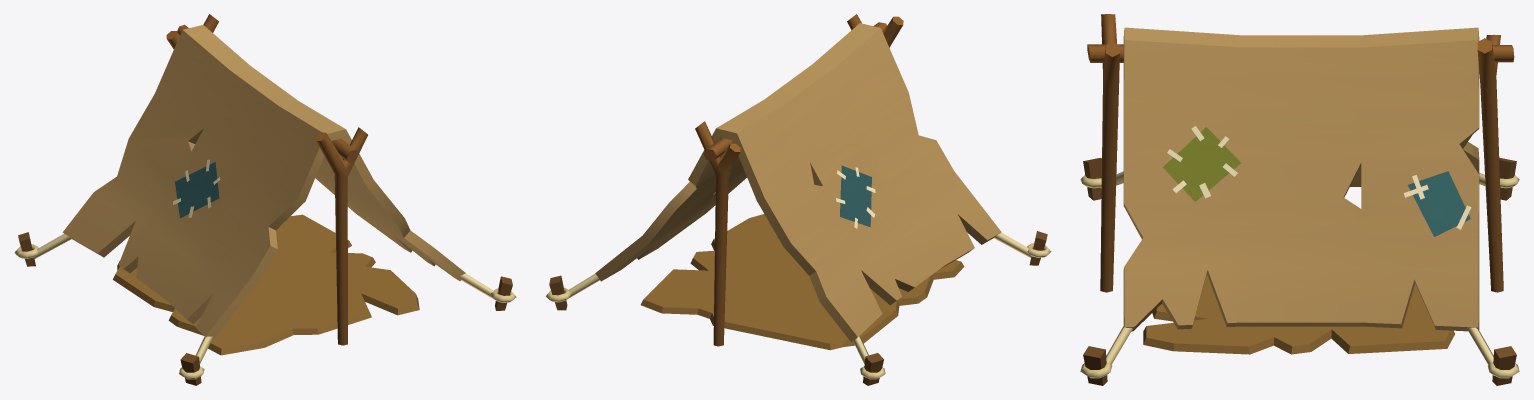
Rendered from SM_Tent_A.fbx.
The picture shows the model from 3 angles, left to right: view 1: azimuth 30°, elevation 25°; view 2: azimuth 150°, elevation 25°; view 3: azimuth 270°, elevation 25°; orthographic projection. The views are drawn at different scales.
Parts seen in each view (by area): view 1: SM_Tent_A; view 2: SM_Tent_A; view 3: SM_Tent_A.
Part boxes in pixels (x1=…): SM_Tent_A: x1=14, y1=14, x2=516, y2=385; SM_Tent_A: x1=545, y1=14, x2=1051, y2=385; SM_Tent_A: x1=1080, y1=14, x2=1519, y2=385.
Size of the model in its own units: 269 by 165 by 247.
